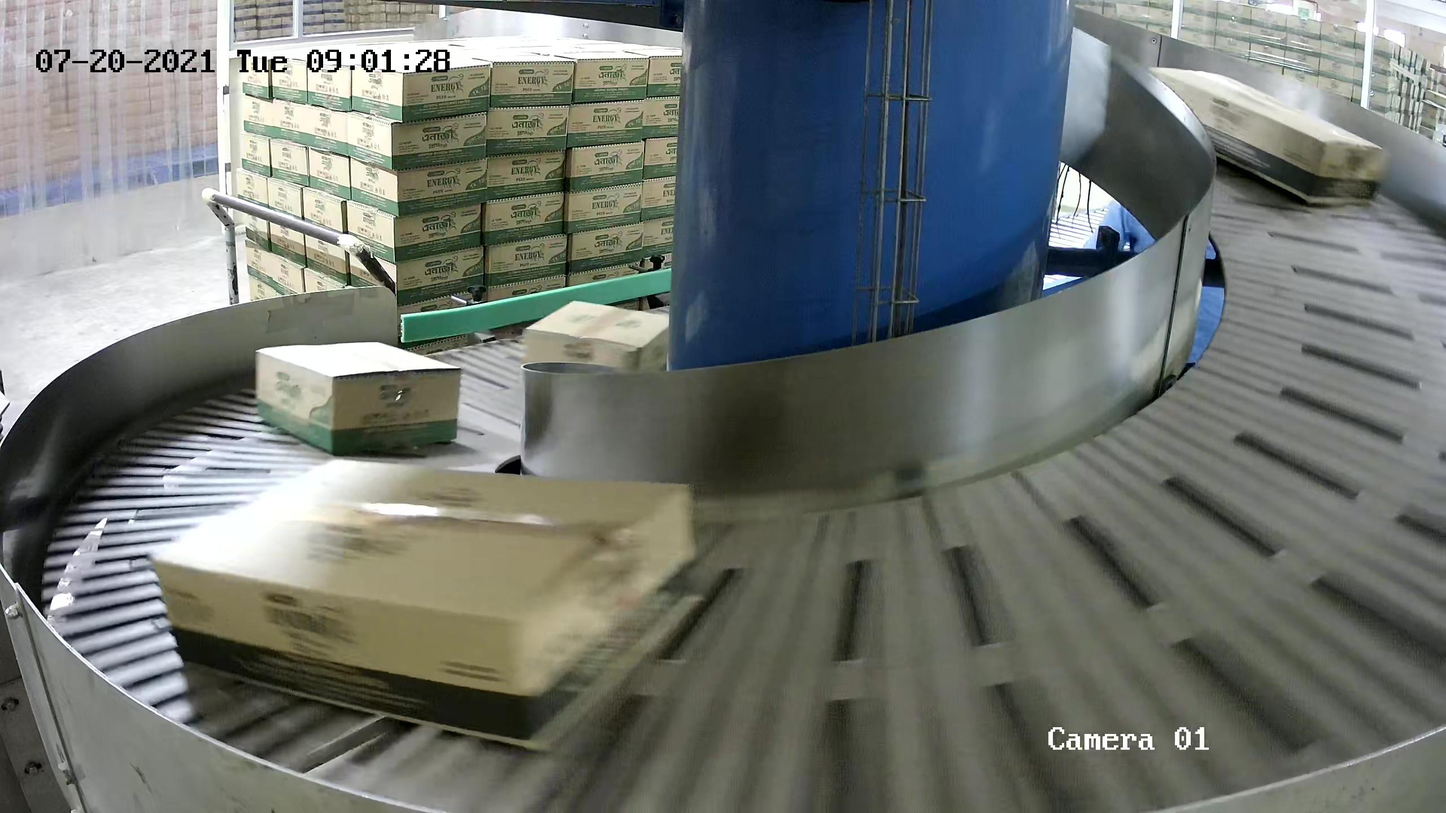Box: (145, 457, 705, 756), (1145, 65, 1385, 205), (255, 341, 463, 457)
